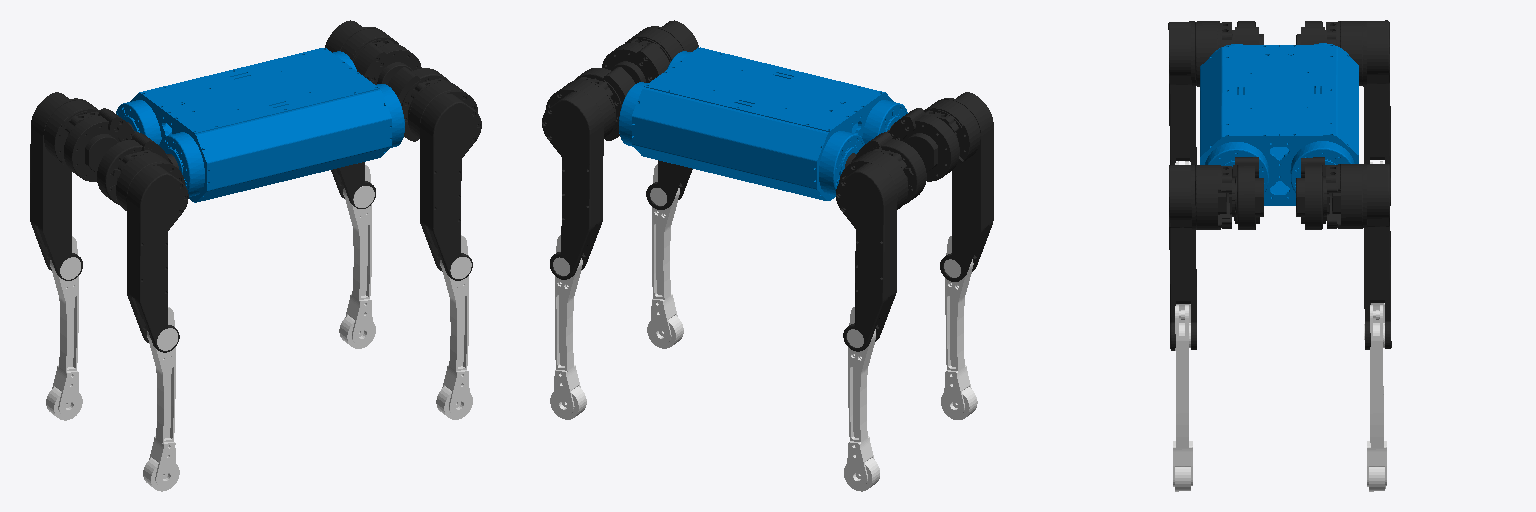
The robot description file, URDF, robot "canineV4":
<?xml version="1.0" ?>
<robot name="canineV4">
  
  <material name="blue">
    <color rgba="0.0 0.5 0.8 0.9"/>
  </material>
  
  <material name="black1">
    <color rgba="0.2 0.2 0.2 1"/>
  </material>
  
  <material name="white">
    <color rgba="0.9 0.9 0.9 0.5"/>
  </material>

  <link name="base">
    <visual>
      <origin rpy="0 0 0" xyz="0 0 0"/>
      <geometry>
        <box size="0.001 0.001 0.001"/>
      </geometry>
    </visual>
  </link>

  <joint name="floating_base" type="fixed">
    <origin rpy="0 0 0" xyz="0 0 0"/>
    <parent link="base"/>
    <child link="trunk"/>
  </joint>

  <link name="trunk">
    <inertial>
      <origin xyz="0.014339238801855274 0.0005227403404208719 -0.0014269636674238235" rpy="0 0 0"/>
      <mass value = "7.293"/>
      <inertia ixx = "0.0414613" ixy = "0" ixz = "0" iyx = "0" iyy = "0.0956574" iyz = "0" izx = "0" izy = "0" izz = "0.121322"/>
    </inertial>
    <visual>
      <origin xyz="0 0 0" rpy="0 0 0"/>
      <geometry>
        <mesh filename="../meshes/base_link.stl" scale="0.001 0.001 0.001"/>
      </geometry>
      <material name="blue"/>
    </visual>
    <collision>
      <origin xyz="0 0 -0.011" rpy="0 0 0"/>
      <geometry>
        <box size= "0.38 0.235 0.131"/>
      </geometry>
    </collision>
  </link>
  
<!--Front Left-->
  <link name="FL_hip">
    <inertial>
      <origin xyz="0.058975220413676505 -0.016130924422260128 -9.470708630414767e-05" rpy="0 0 0"/>
      <mass value = "0.7498"/>
      <inertia ixx = "0.000564293" iyy = "0.00108156" izz = "0.000706237" ixy = "3.9187e-05" iyz = "2.61247e-06" ixz = "0"/>
    </inertial>
    <visual>
      <origin xyz="-0.185613 -0.065216 -0.000494" rpy="0 0 0"/>
      <geometry>
        <mesh filename="../meshes/FL_Hip_1.stl" scale="0.001 0.001 0.001"/>
      </geometry>
      <material name="black1"/>
    </visual>
    <collision>
      <origin xyz="-0.185613 -0.065216 -0.000494" rpy="0 0 0"/>
      <geometry>
        <mesh filename="../meshes/FL_Hip_1.obj" scale="0.001 0.001 0.001"/>
      </geometry>
    </collision>
  </link>

  <link name="FL_thigh">
    <inertial>
      <origin xyz="-0.005295476492297502 0.055863741051553104 -0.02739556562567192" rpy="0 0 0"/>
      <mass value = "1.6223"/>
      <inertia ixx = "0.00754088" iyy = "0.00733144" izz = "0.00206749" ixy = "0.000208444" iyz = "0.0013115" ixz = "-0.000668218"/>
    </inertial>
    <visual>
      <origin xyz="-0.256107 -0.062095 -0.000475" rpy="0 0 0"/>
      <geometry>
        <mesh filename="../meshes/FL_thigh_1.stl" scale="0.001 0.001 0.001"/>
      </geometry>
      <material name="black1"/>
    </visual>
    <collision>
      <origin xyz="0 0.084 -0.23" rpy="1.57079632679 0 0"/>
      <geometry>
        <cylinder length="0.019" radius="0.015"/>
      </geometry>
    </collision>
  </link>

  <link name="FL_calf">
    <inertial>
      <origin xyz="0.00031304711228058446 0.018663901688305173 -0.11805864385255102" rpy="0 0 0"/>
      <mass value = "0.4049"/>
      <inertia ixx = "0.00415323" iyy = "0.00417183" izz = "7.25698e-05" ixy = "9.30382e-07" iyz = "2.51203e-05" ixz = "-7.44306e-05"/>
    </inertial>
    <visual>
      <origin xyz="0.256221 0.1424 0.230545" rpy="0 0 0"/>
      <geometry>
        <mesh filename="../meshes/HR_calf_1.stl" scale="0.001 0.001 0.001"/>
      </geometry>
      <material name="white"/>
    </visual>
    <collision>
      <origin xyz="0 0 -0.23" rpy="1.57079632679 0 0"/>
      <geometry>
        <cylinder length="0.024" radius="0.025"/>
      </geometry>
    </collision>
  </link>
  
<!--  Front Right -->
  <link name="FR_hip">
    <inertial>
      <origin xyz="0.059030654145396516 0.015927423670200135 9.247774957795986e-05" rpy="0 0 0"/>
      <mass value = "0.7498"/>
      <inertia ixx = "0.000564293" iyy = "0.00108156" izz = "0.000706237" ixy = "3.9187e-05" iyz = "2.61247e-06" ixz = "0"/>
    </inertial>
    <visual>
      <origin xyz="-0.185389 0.06478 0.000488" rpy="0 0 0"/>
      <geometry>
        <mesh filename="../meshes/FR_Hip_1.stl" scale="0.001 0.001 0.001"/>
      </geometry>
      <material name="black1"/>
    </visual>
    <collision>
      <origin xyz="-0.185389 0.06478 0.000488" rpy="0 0 0"/>
      <geometry>
        <mesh filename="../meshes/FR_Hip_1.obj" scale="0.001 0.001 0.001"/>
      </geometry>
    </collision>
  </link>
  
  <link name="FR_thigh">
    <inertial>
      <origin xyz="-0.0054874276469241146 -0.055519109948595644 -0.028025753197478204" rpy="0 0 0"/>
      <mass value = "1.6223"/>
      <inertia ixx = "0.00754088" iyy = "0.00733144" izz = "0.00206749" ixy = "0.000208444" iyz = "0.0013115" ixz = "-0.000668218"/>
    </inertial>
    <visual>
      <origin xyz="-0.255894 0.061902 0.000472" rpy="0 0 0"/>
      <geometry>
        <mesh filename="../meshes/FR_thigh_1.stl" scale="0.001 0.001 0.001"/>
      </geometry>
      <material name="black1"/>
    </visual>
    <collision>
      <origin xyz="0 -0.084 -0.23" rpy="1.57079632679 0 0"/>
      <geometry>
        <cylinder length="0.019" radius="0.015"/>
      </geometry>
    </collision>
  </link>
  
  <link name="FR_calf">
    <inertial>
      <origin xyz="-0.0018108281142471538 -0.017331701500681695 -0.11825587817029126" rpy="0 0 0"/>
      <mass value = "0.4049"/>
      <inertia ixx = "0.00415323" iyy = "0.00417183" izz = "7.25698e-05" ixy = "9.30382e-07" iyz = "2.51203e-05" ixz = "-7.44306e-05"/>

    </inertial>
    <visual>
      <origin xyz="0.256221 0.1424 0.230545" rpy="0 0 0"/>
      <geometry>
        <mesh filename="../meshes/HR_calf_1.stl" scale="0.001 0.001 0.001"/>
      </geometry>
      <material name="white"/>
    </visual>
    <collision>
      <origin xyz="0 0 -0.23" rpy="1.57079632679 0 0"/>
      <geometry>
        <cylinder length="0.024" radius="0.025"/>
      </geometry>
    </collision>
  </link>
 
<!--  Hind Left-->
  <link name="HL_hip">
    <inertial>
      <origin xyz="-0.05903082809440047 -0.01592734296849691 -9.238738722284502e-05" rpy="0 0 0"/>
      <mass value = "0.7498"/>
      <inertia ixx = "0.000564293" iyy = "0.00108156" izz = "0.000706237" ixy = "3.9187e-05" iyz = "2.61247e-06" ixz = "0"/>
    </inertial>
    <visual>
      <origin xyz="0.185387 -0.065854 -0.000501" rpy="0 0 0"/>
      <geometry>
        <mesh filename="../meshes/HL_Hip_1.stl" scale="0.001 0.001 0.001"/>
      </geometry>
      <material name="black1"/>
    </visual>
    <collision>
      <origin xyz="0.185387 -0.065854 -0.000501" rpy="0 0 0"/>
      <geometry>
        <mesh filename="../meshes/HL_Hip_1.obj" scale="0.001 0.001 0.001"/>
      </geometry>
    </collision>
  </link>

  <link name="HL_thigh">
    <inertial>
      <origin xyz="-0.0043479246699852925 0.055862527145962446 -0.027440966657779627" rpy="0 0 0"/>
      <mass value = "1.6223"/>
      <inertia ixx = "0.00754088" iyy = "0.00733144" izz = "0.00206749" ixy = "0.000208444" iyz = "0.0013115" ixz = "-0.000668218"/>
    </inertial>
    <visual>
      <origin xyz="0.255892 -0.062976 -0.000485" rpy="0 0 0"/>
      <geometry>
        <mesh filename="../meshes/HL_thigh_1.stl" scale="0.001 0.001 0.001"/>
      </geometry>
      <material name="black1"/>
    </visual>
    <collision>
      <origin xyz="0 0.084 -0.23" rpy="1.57079632679 0 0"/>
      <geometry>
        <cylinder length="0.019" radius="0.015"/>
      </geometry>
    </collision>
  </link>
  
  <link name="HL_calf">
    <inertial>
      <origin xyz="0.004436553462955517 0.018656478060602333 -0.11797708805343396" rpy="0 0 0"/>
      <mass value = "0.4049"/>
      <inertia ixx = "0.00415323" iyy = "0.00417183" izz = "7.25698e-05" ixy = "9.30382e-07" iyz = "2.51203e-05" ixz = "-7.44306e-05"/>
    </inertial>
    <visual>
      <origin xyz="0.256221 0.1424 0.230545" rpy="0 0 0"/>
      <geometry>
        <mesh filename="../meshes/HR_calf_1.stl" scale="0.001 0.001 0.001"/>
      </geometry>
      <material name="white"/>
    </visual>
    <collision>
      <origin xyz="0 0 -0.23" rpy="1.57079632679 0 0"/>
      <geometry>
        <cylinder length="0.024" radius="0.025"/>
      </geometry>
    </collision>
  </link>
  
<!--  Hind Right -->
  <link name="HR_hip">
    <inertial>
      <origin xyz="-0.05897539437436458 0.016131005161887584 9.480463785772582e-05" rpy="0 0 0"/>
      <mass value = "0.7498"/>
      <inertia ixx = "0.000564293" iyy = "0.00108156" izz = "0.000706237" ixy = "3.9187e-05" iyz = "2.61247e-06" ixz = "0"/>
    </inertial>
    <visual>
      <origin xyz="0.185611 0.064142 0.000481" rpy="0 0 0"/>
      <geometry>
        <mesh filename="../meshes/HR_Hip_1.stl" scale="0.001 0.001 0.001"/>
      </geometry>
      <material name="black1"/>
    </visual>
    <collision>
      <origin xyz="0.185611 0.064142 0.000481" rpy="0 0 0"/>
      <geometry>
        <mesh filename="../meshes/HR_Hip_1.obj" scale="0.001 0.001 0.001"/>
      </geometry>
    </collision>
  </link>
  
  <link name="HR_thigh">
    <inertial>
      <origin xyz="-0.004502314615021097 -0.05548927838716084 -0.027817895991566484" rpy="0 0 0"/>
      <mass value = "1.6223"/>
      <inertia ixx = "0.00754088" iyy = "0.00733144" izz = "0.00206749" ixy = "0.000208444" iyz = "0.0013115" ixz = "-0.000668218"/>
    </inertial>
    <visual>
      <origin xyz="0.256105 0.06102 0.000462" rpy="0 0 0"/>
      <geometry>
        <mesh filename="../meshes/HR_thigh_1.stl" scale="0.001 0.001 0.001"/>
      </geometry>
      <material name="black1"/>
    </visual>
    <collision>
      <origin xyz="0 -0.084 -0.23" rpy="1.57079632679 0 0"/>
      <geometry>
        <cylinder length="0.024" radius="0.025"/>
      </geometry>
    </collision>
  </link>
  
  <link name="HR_calf">
    <inertial>
      <origin xyz="0.002302575792990591 -0.017335752937394422 -0.11753324247330965" rpy="0 0 0"/>
      <mass value = "0.3639"/>
      <inertia ixx = "0.00373267" iyy = "0.0037494" izz = "6.52214e-05" ixy = "8.36172e-07" iyz = "2.25766e-05" ixz = "-6.68938e-05"/>
    </inertial>
    <visual>
      <origin xyz="0.256221 0.1424 0.230545" rpy="0 0 0"/>
      <geometry>
        <mesh filename="../meshes/HR_calf_1.stl" scale="0.001 0.001 0.001"/>
      </geometry>
      <material name="white"/>
    </visual>
    <collision>
      <origin xyz="0 0 -0.23" rpy="1.57079632679 0 0"/>
      <geometry>
        <cylinder length="0.024" radius="0.025"/>
      </geometry>
    </collision>
  </link>
  
<!--  joint -->
  <joint name="FL_HIP" type="revolute">
    <origin xyz="0.185 0.065 0.0" rpy="0 0 0"/>
    <parent link="trunk"/>
    <child link="FL_hip"/>
    <axis xyz="1 0 0"/>
  </joint>
  
  <joint name="FL_THIGH" type="revolute">
    <origin xyz="0.07 -0.003 0.0" rpy="0 0 0"/>
    <parent link="FL_hip"/>
    <child link="FL_thigh"/>
    <axis xyz="0 1 0"/>
  </joint>
  
  <joint name="FL_KNEE" type="revolute">
    <origin xyz="0 0.084 -0.23" rpy="0 0 0"/>
    <parent link="FL_thigh"/>
    <child link="FL_calf"/>
    <axis xyz="0 1 0"/>
  </joint>
  
  <joint name="FR_HIP" type="revolute">
    <origin xyz="0.185 -0.065 0.0" rpy="0 0 0"/>
    <parent link="trunk"/>
    <child link="FR_hip"/>
    <axis xyz="1 0 0"/>
  </joint>
  
  <joint name="FR_THIGH" type="revolute">
    <origin xyz="0.07 0.003 0.0" rpy="0 0 0"/>
    <parent link="FR_hip"/>
    <child link="FR_thigh"/>
    <axis xyz="0 1 0"/>
  </joint>
  
  <joint name="FR_KNEE" type="revolute">
    <origin xyz="0 -0.084 -0.23" rpy="0 0 0"/>
    <parent link="FR_thigh"/>
    <child link="FR_calf"/>
    <axis xyz="0 1 0"/>
  </joint>
  
  <joint name="HL_HIP" type="revolute">
    <origin xyz="-0.185 0.065 0.0" rpy="0 0 0"/>
    <parent link="trunk"/>
    <child link="HL_hip"/>
    <axis xyz="1 0 0"/>
  </joint>
  
  <joint name="HL_THIGH" type="revolute">
    <origin xyz="-0.07 -0.003 0.0" rpy="0 0 0"/>
    <parent link="HL_hip"/>
    <child link="HL_thigh"/>
    <axis xyz="0 1 0"/>
  </joint>
  
  <joint name="HL_KNEE" type="revolute">
    <origin xyz="0 0.084 -0.23" rpy="0 0 0"/>
    <parent link="HL_thigh"/>
    <child link="HL_calf"/>
    <axis xyz="0 1 0"/>
  </joint>

  <joint name="HR_HIP" type="revolute">
    <origin xyz="-0.185 -0.065 0.0" rpy="0 0 0"/>
    <parent link="trunk"/>
    <child link="HR_hip"/>
    <axis xyz="1 0 0"/>
  </joint>

  <joint name="HR_THIGH" type="revolute">
    <origin xyz="-0.07 0.003 0.0" rpy="0 0 0"/>
    <parent link="HR_hip"/>
    <child link="HR_thigh"/>
    <axis xyz="0 1 0"/>
  </joint>

  <joint name="HR_KNEE" type="revolute">
    <origin xyz="0 -0.084 -0.23" rpy="0 0 0"/>
    <parent link="HR_thigh"/>
    <child link="HR_calf"/>
    <axis xyz="0 1 0"/>
  </joint>
</robot>

--- Render facts (derived) ---
Views: 3 orthographic renders of the robot side by side, from view 1: azimuth 30°, elevation 25°; view 2: azimuth 150°, elevation 25°; view 3: azimuth 270°, elevation 25°.
Model canineV4 with 14 links and 13 joints (12 revolute, 1 fixed), rooted at base, posed all joints at 0.
Visible links, largest first — view 1: trunk, FR_thigh, HR_thigh, HL_thigh, FR_calf, HL_calf, FL_calf, HR_calf, HL_hip, FL_thigh, FL_hip, HR_hip (+1 smaller); view 2: trunk, HL_thigh, FL_thigh, HR_thigh, HL_calf, FL_calf, HR_calf, FR_calf, HR_hip, FR_thigh, FR_hip, HL_hip (+1 smaller); view 3: trunk, FL_thigh, FR_thigh, HR_thigh, HL_thigh, FL_calf, FR_calf, FR_hip, FL_hip, HR_hip, HL_hip.
Boxes of the visible links, x1,y1,x2,y2 form: trunk: [116, 48, 404, 202]; FR_thigh: [408, 78, 481, 280]; HR_thigh: [112, 150, 188, 352]; HL_thigh: [30, 92, 99, 280]; FR_calf: [436, 235, 472, 419]; HL_calf: [46, 236, 82, 420]; FL_calf: [339, 165, 375, 348]; HR_calf: [143, 307, 179, 491]; HL_hip: [64, 108, 135, 181]; FL_thigh: [325, 20, 398, 208]; FL_hip: [354, 43, 421, 84]; HR_hip: [97, 132, 178, 204]; trunk: [619, 47, 907, 200]; HL_thigh: [836, 149, 911, 351]; FL_thigh: [542, 77, 615, 279]; HR_thigh: [924, 92, 993, 281]; HL_calf: [844, 307, 879, 491]; FL_calf: [550, 235, 586, 419]; HR_calf: [941, 236, 977, 419]; FR_calf: [647, 164, 683, 348]; HR_hip: [887, 108, 959, 181]; FR_thigh: [625, 20, 698, 209]; FR_hip: [602, 43, 669, 83]; HL_hip: [845, 132, 926, 204]; trunk: [1200, 43, 1358, 205]; FL_thigh: [1324, 164, 1391, 349]; FR_thigh: [1169, 165, 1235, 350]; HR_thigh: [1168, 21, 1232, 164]; HL_thigh: [1326, 20, 1390, 205]; FL_calf: [1364, 305, 1386, 491]; FR_calf: [1173, 305, 1192, 491]; FR_hip: [1232, 157, 1263, 229]; FL_hip: [1296, 157, 1326, 229]; HR_hip: [1233, 21, 1263, 44]; HL_hip: [1296, 21, 1326, 44].
Size in the robot's own frame: 0.6091 by 0.335 by 0.544 metres.
13 mesh visuals loaded from 10 distinct referenced files (10 binary STL).